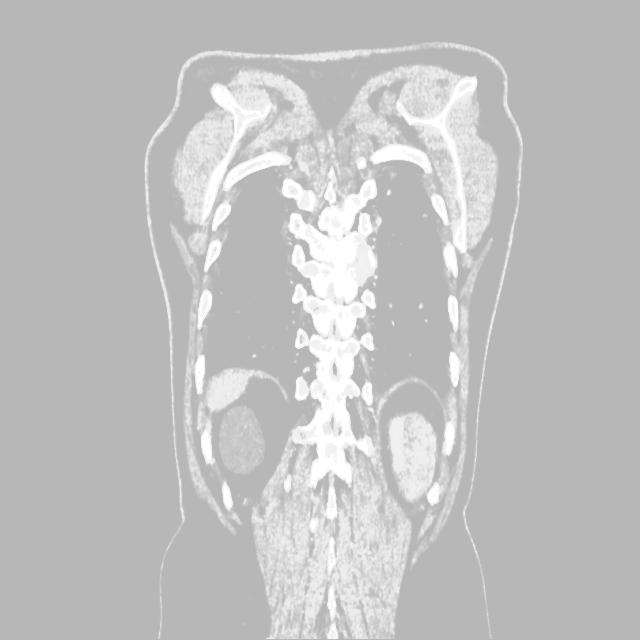TUMOR: (196, 262, 503, 557)
